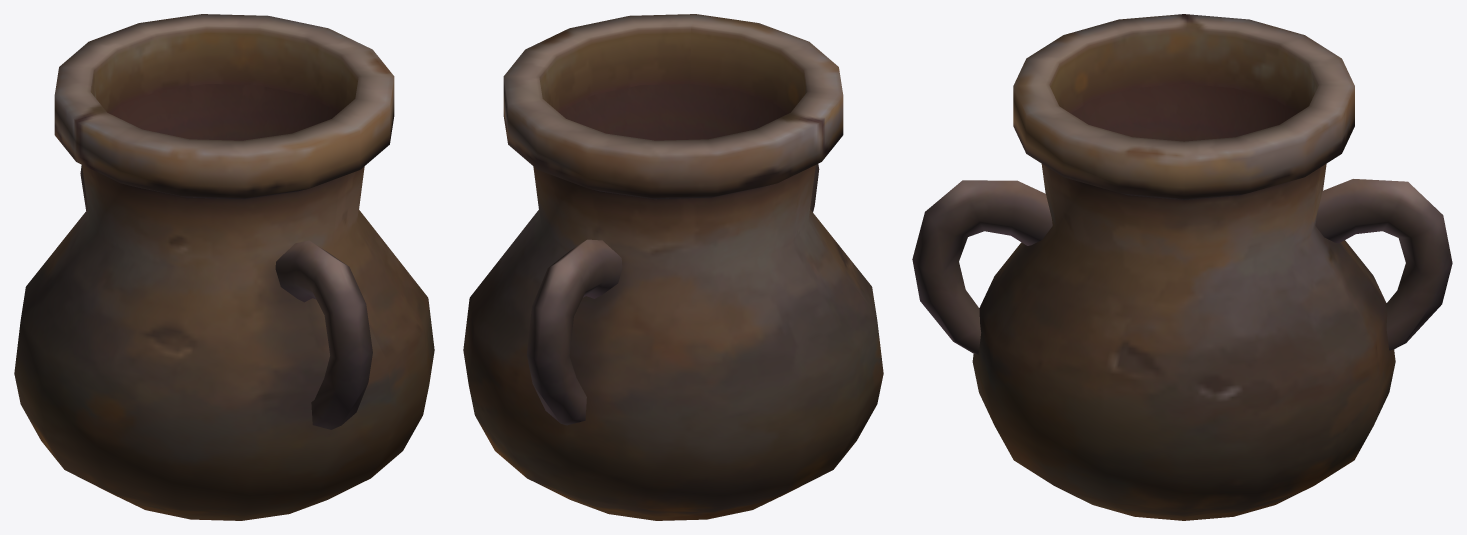
The model's file is SleepingGarden_jugful_03.fbx.
3 renders of one model, left to right at view 1: azimuth 30°, elevation 25°; view 2: azimuth 150°, elevation 25°; view 3: azimuth 270°, elevation 25°, orthographic.
Parts seen in each view (by area): view 1: SleepingGarden_jugful_03; view 2: SleepingGarden_jugful_03; view 3: SleepingGarden_jugful_03.
Part boxes in pixels (box(x1,y1,x2,y2)): SleepingGarden_jugful_03: box(14, 14, 434, 520); SleepingGarden_jugful_03: box(463, 14, 883, 520); SleepingGarden_jugful_03: box(912, 14, 1452, 520).
Bounding box in the file's own units: 0.5807 × 0.5781 × 0.7415.
Materials: 1 (1 with a texture image).
